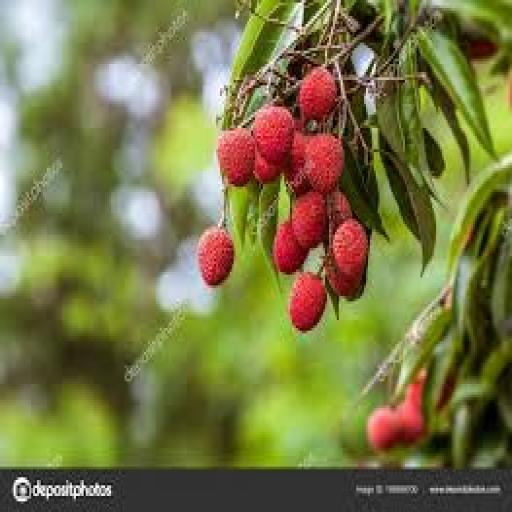lychee: (254, 107, 293, 165), (289, 272, 327, 330), (217, 128, 255, 186), (306, 134, 342, 194), (197, 227, 233, 285), (293, 190, 327, 250), (298, 67, 336, 119), (333, 219, 367, 277), (273, 222, 307, 274), (366, 406, 401, 450), (285, 131, 309, 194), (326, 256, 362, 298), (398, 403, 424, 445), (328, 190, 352, 231), (256, 152, 280, 183), (405, 374, 426, 407)
